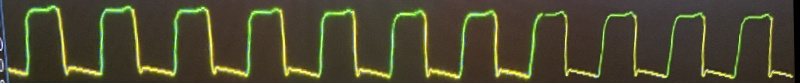normal_pressure: (1, 4, 792, 83)
